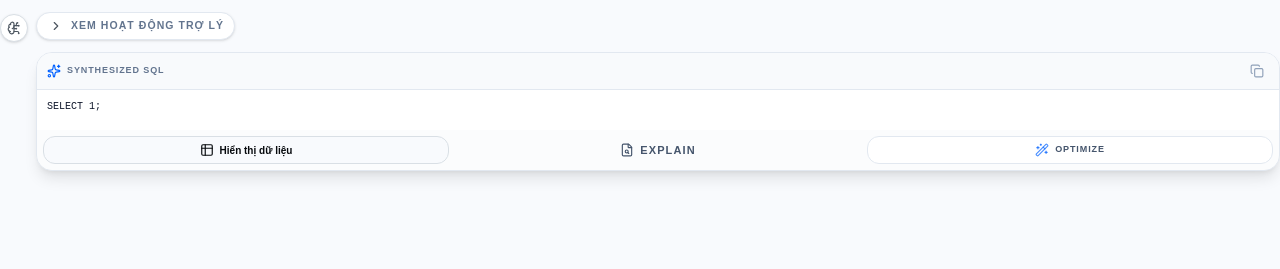
Test case: AIMessage › reveals saved thinking activity even when the assistant message has SQL
Click the button "Xem hoạt động trợ lý".
click(136, 26)  # box [36,12,235,40]
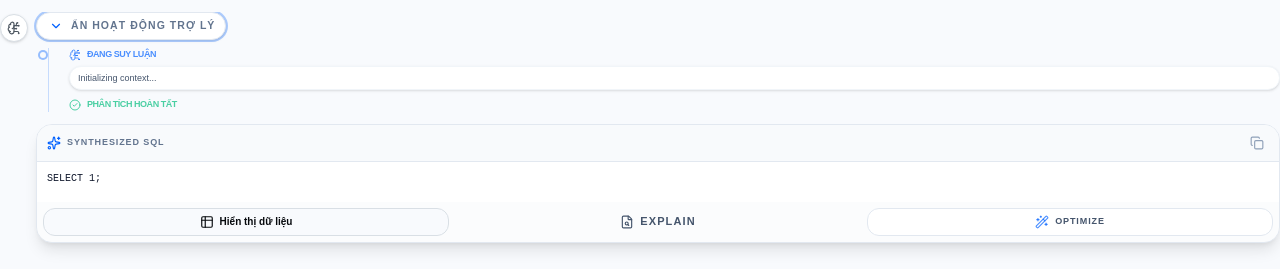
Expected: the text "Initializing context..." is shown, [78,72,156,82]
